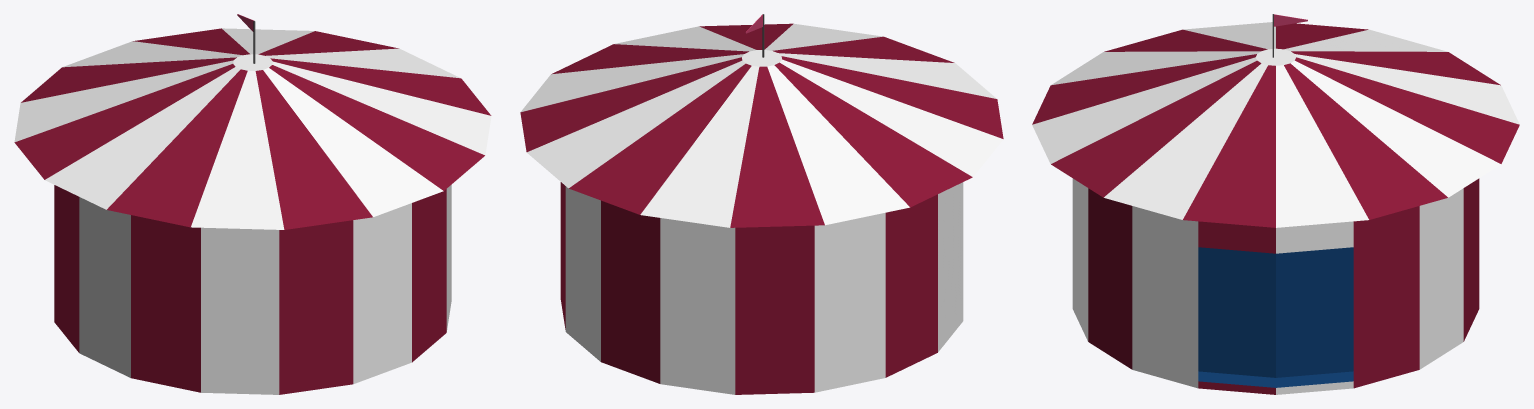
The model's file is Tent04.fbx.
3 renders of one model, left to right at view 1: azimuth 30°, elevation 25°; view 2: azimuth 150°, elevation 25°; view 3: azimuth 270°, elevation 25°, orthographic.
Parts seen in each view (by area): view 1: Tent04; view 2: Tent04; view 3: Tent04.
Part boxes in pixels (x1,y1,x2,y2): Tent04: (14, 14, 491, 394); Tent04: (520, 14, 1003, 394); Tent04: (1032, 14, 1519, 394).
Bounding box in the file's own units: 720 × 480 × 720.
